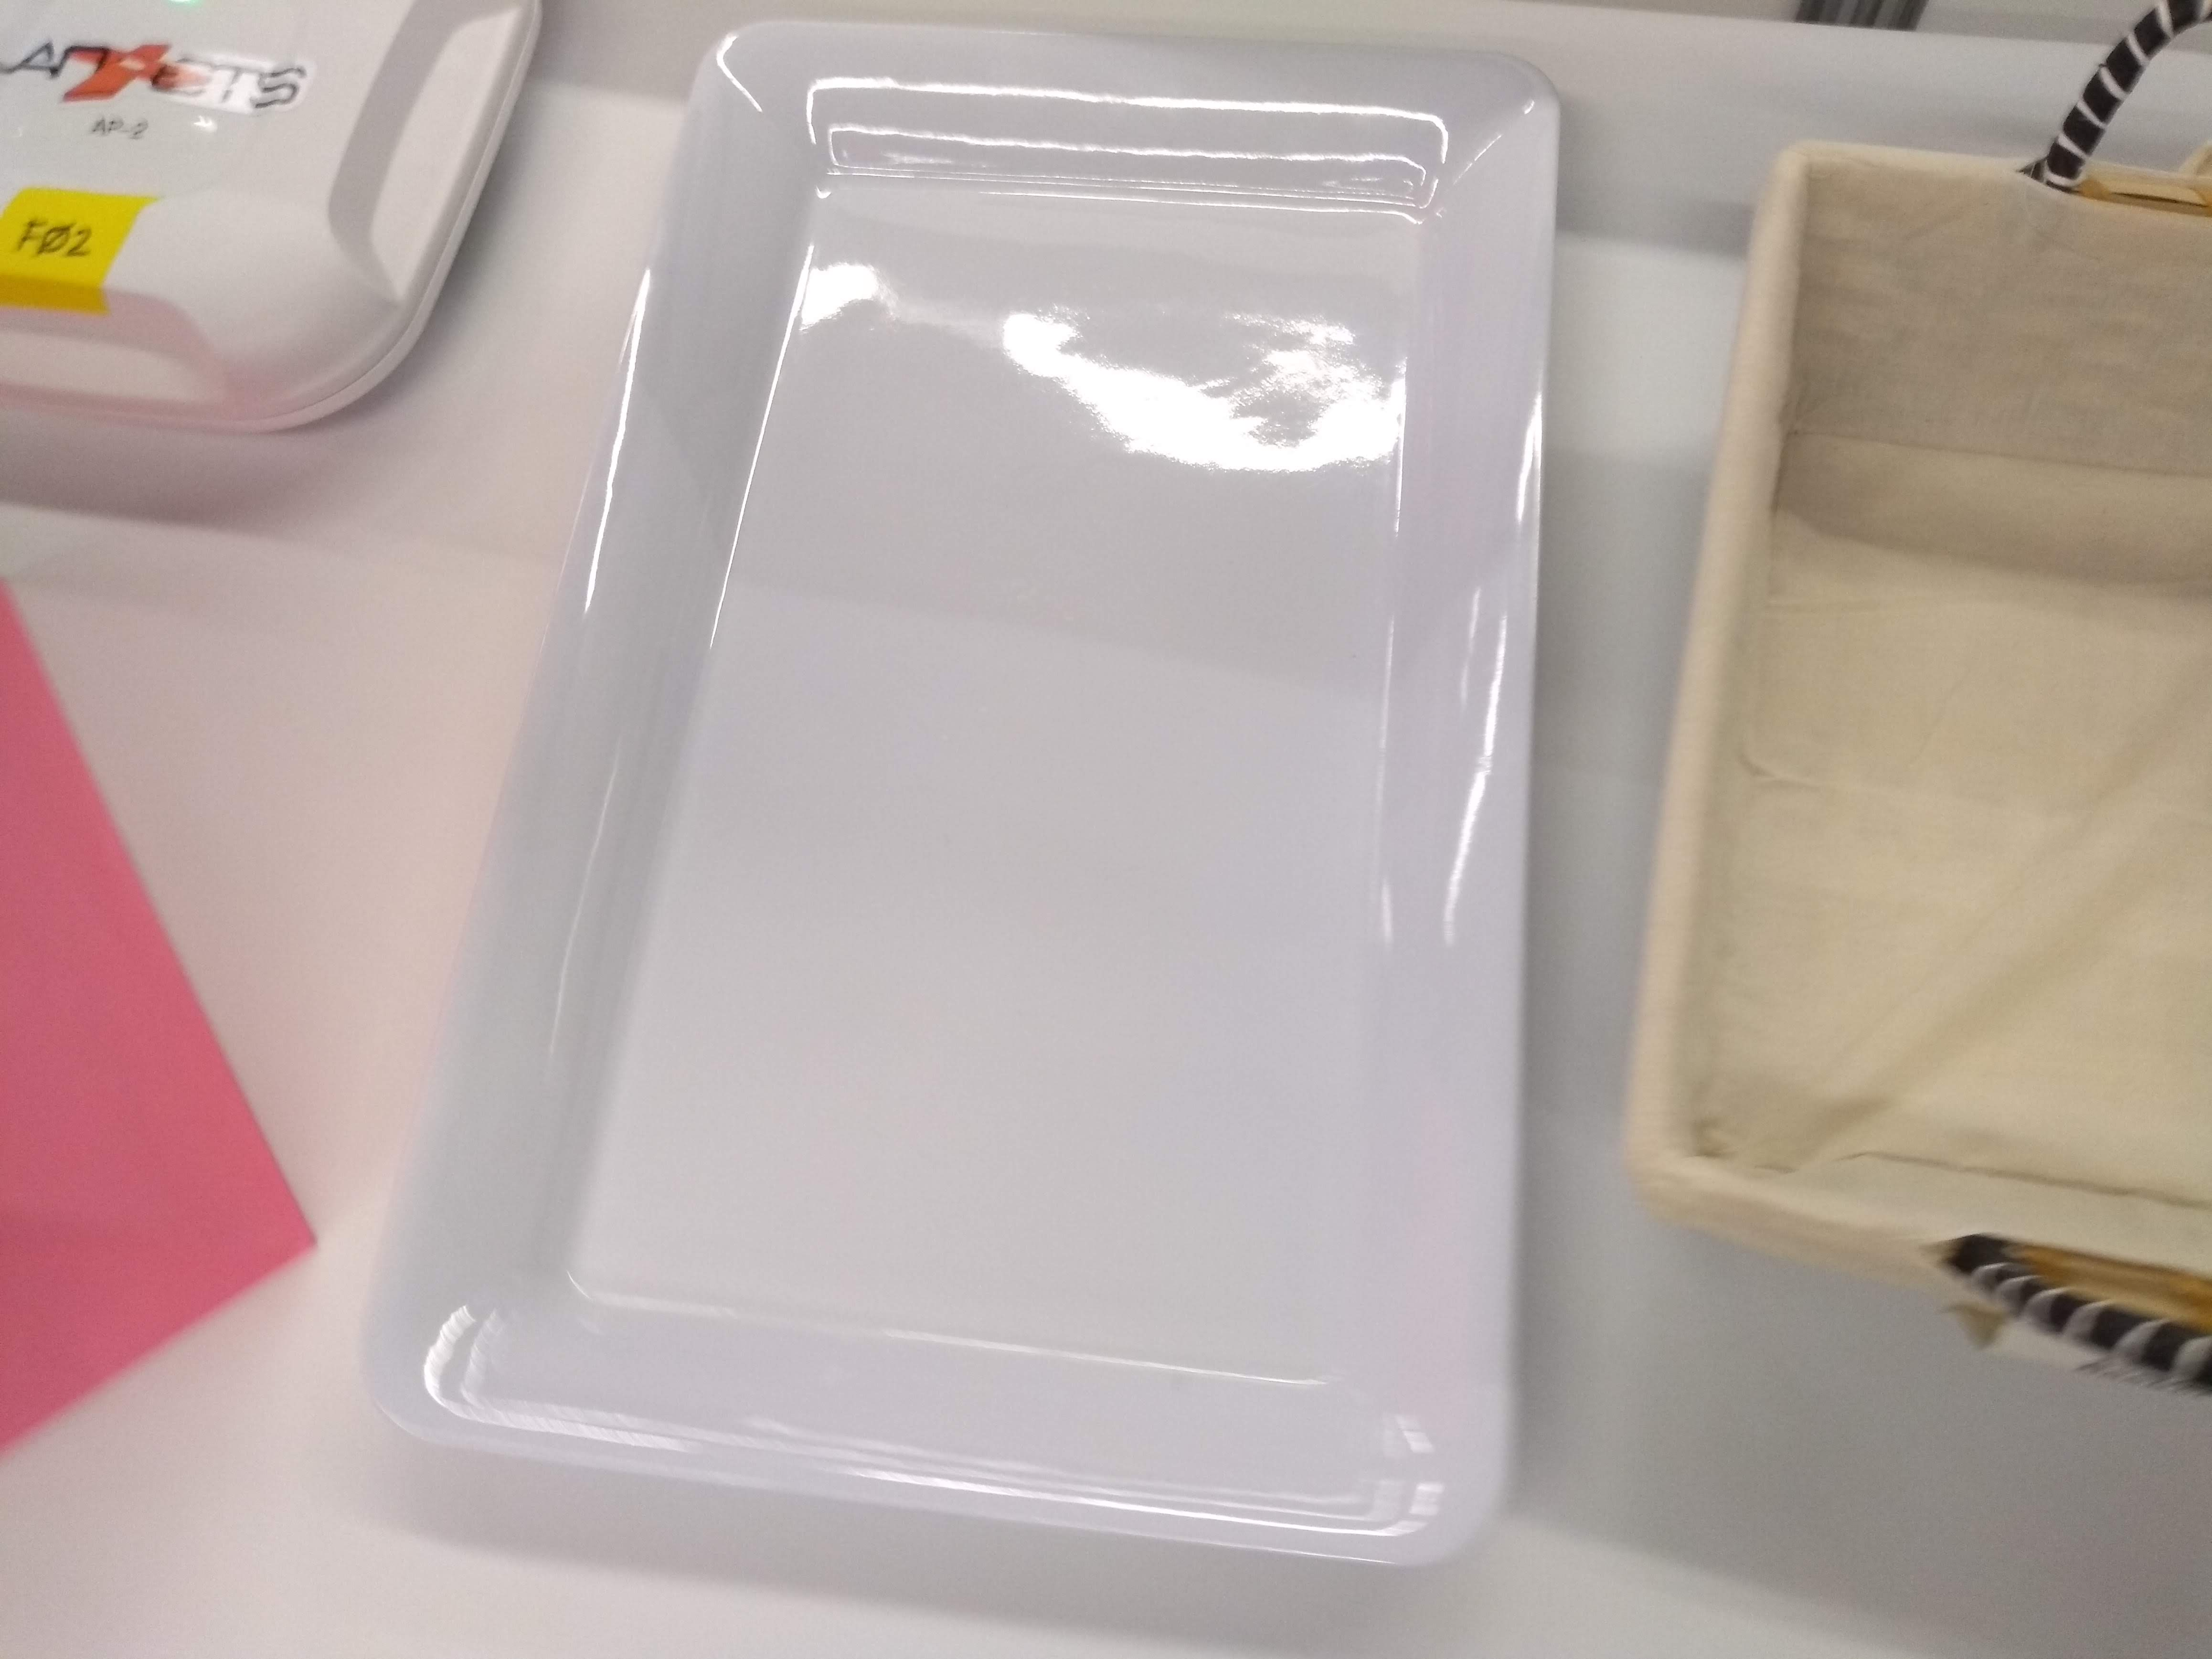basket: (1642, 5, 2212, 1396)
tray: (341, 5, 1641, 1586)
